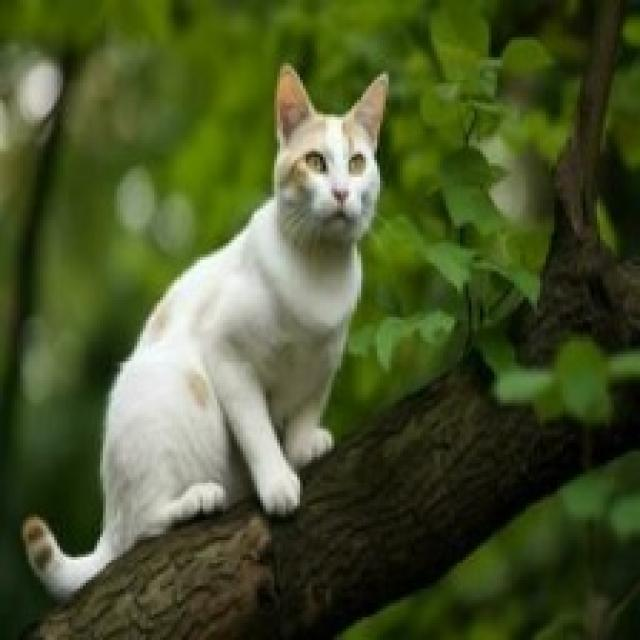bear: (30, 53, 455, 584)
